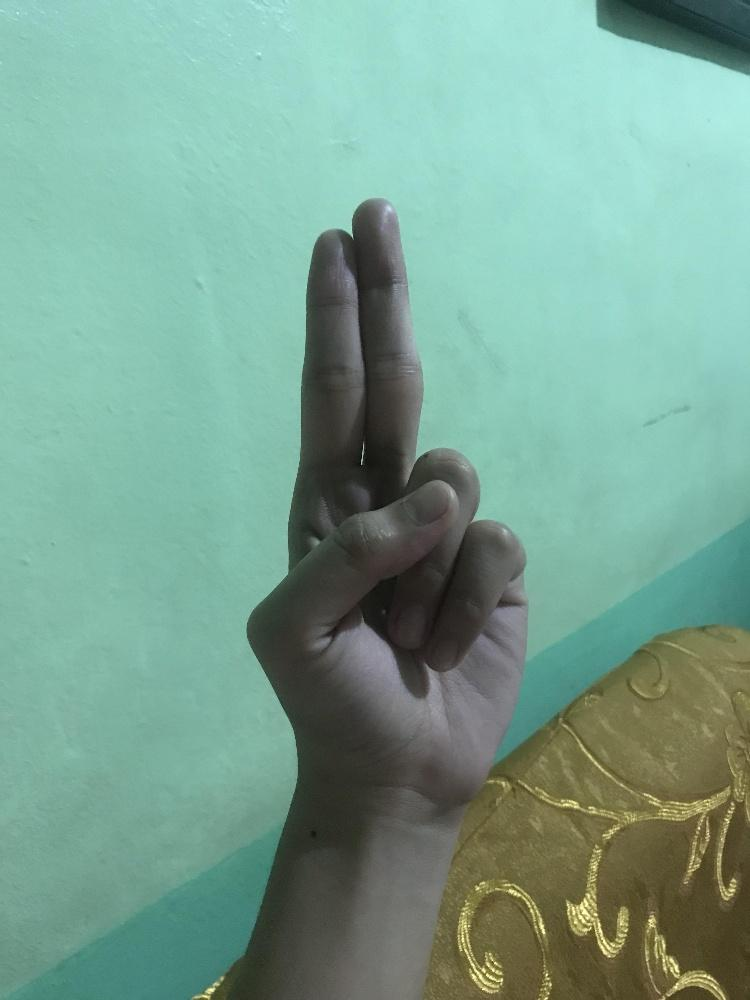u: (236, 192, 533, 810)
